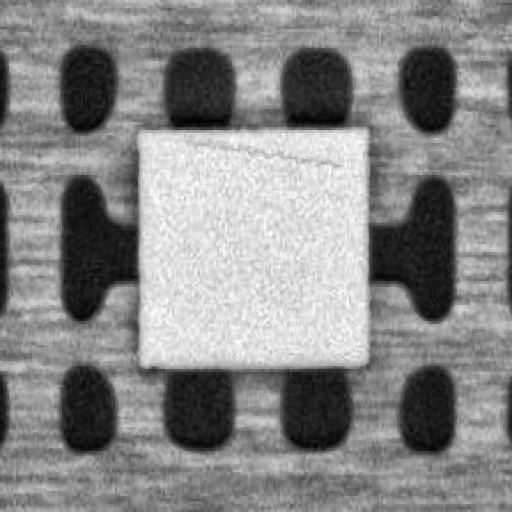DIE_CRACK: (276, 92, 509, 108)
